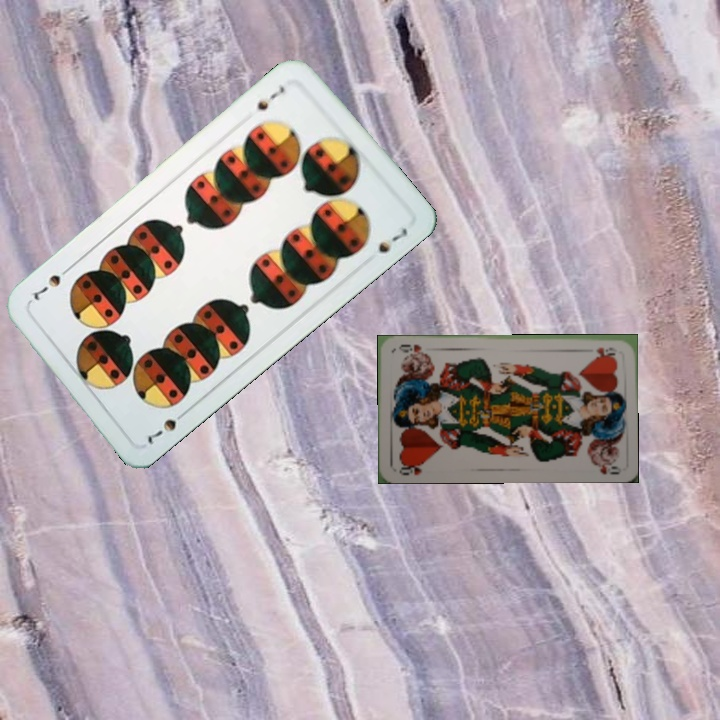HO: (395, 459, 426, 477), (592, 343, 619, 357)
S7: (143, 406, 191, 448), (253, 81, 287, 114)
